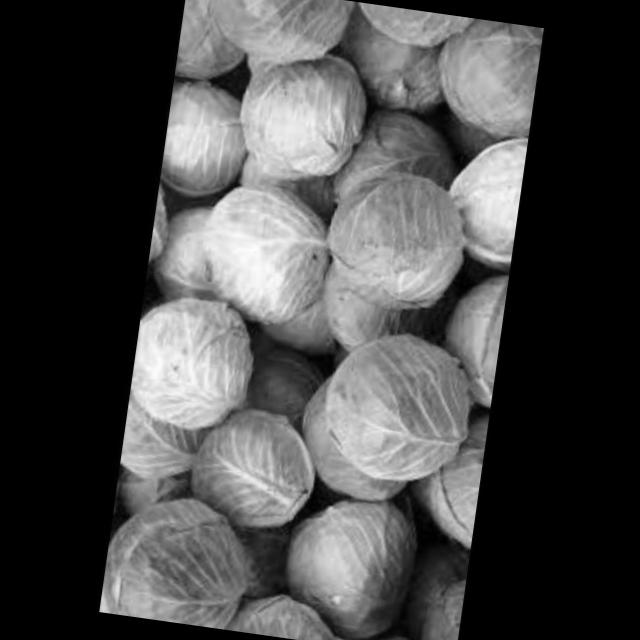cabbage: (193, 131, 353, 342), (302, 302, 478, 492), (96, 464, 284, 635), (296, 153, 485, 316), (261, 464, 436, 640), (123, 256, 264, 440), (176, 394, 335, 544), (228, 16, 379, 168), (418, 115, 527, 272), (421, 14, 541, 152), (416, 255, 508, 421), (160, 56, 258, 205), (390, 421, 484, 564), (170, 0, 297, 104), (203, 0, 351, 73), (359, 5, 448, 94)
